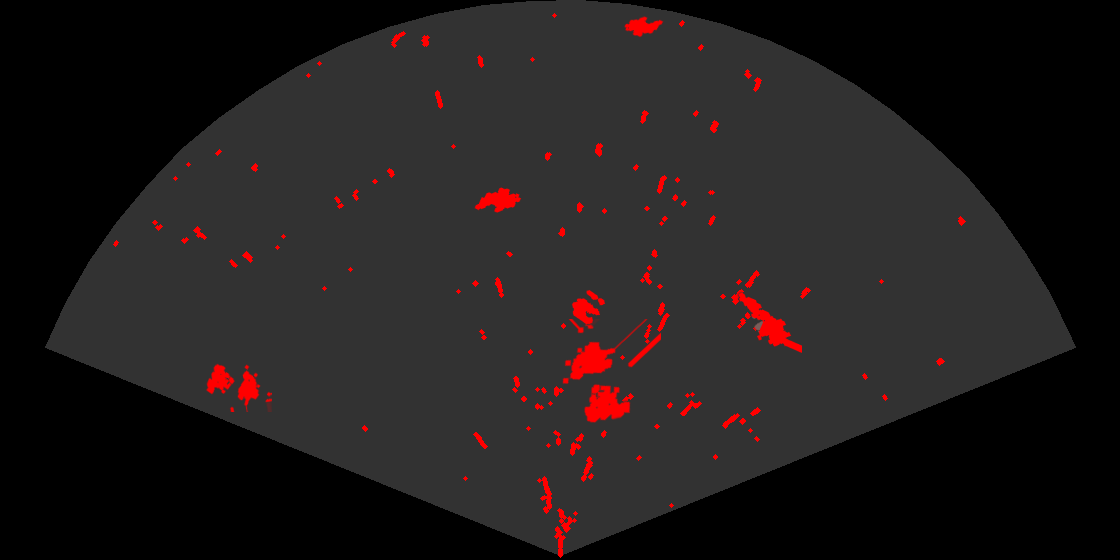AUV: (473, 186, 523, 214), (623, 15, 665, 39)
ball: (570, 288, 607, 326)
cage: (561, 319, 661, 424), (204, 362, 272, 412)
frogman: (737, 291, 802, 354)
